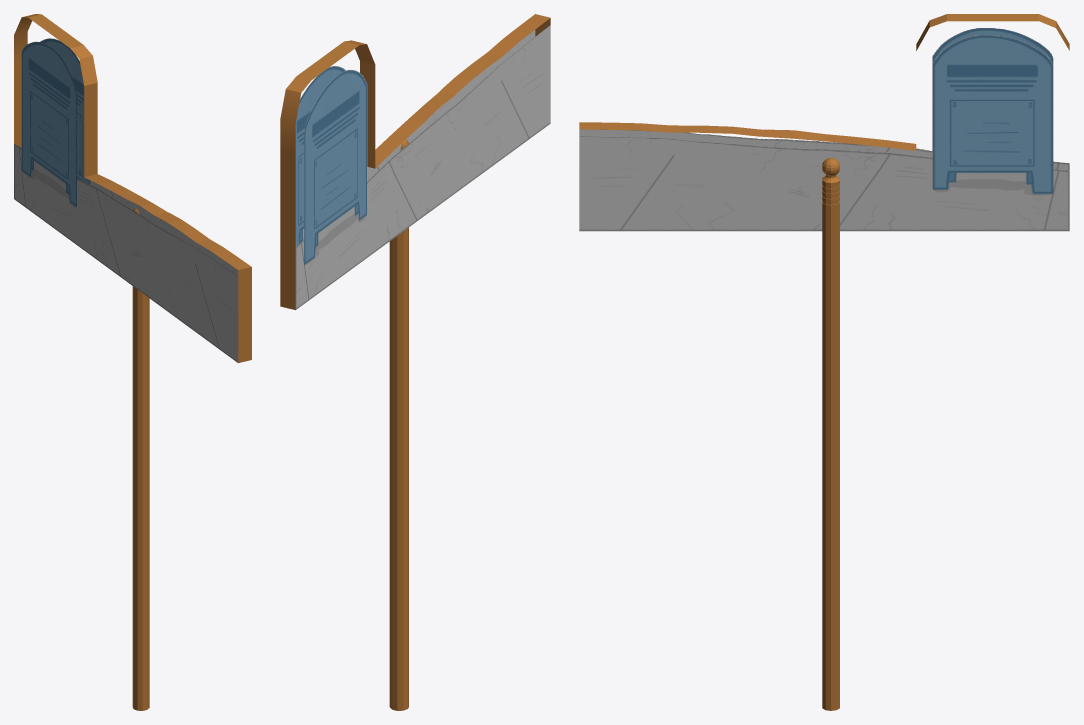
The model's file is Escena7_Buzon.fbx.
3 renders of one model, left to right at view 1: azimuth 30°, elevation 25°; view 2: azimuth 150°, elevation 25°; view 3: azimuth 270°, elevation 25°, orthographic. The views are drawn at different scales.
Visible parts, largest first — view 1: pCylinder3; view 2: pCylinder3; view 3: pCylinder3.
Boxes of the visible parts, <box> form: pCylinder3: <box>14,14,251,710</box>; pCylinder3: <box>280,14,550,710</box>; pCylinder3: <box>579,14,1069,710</box>.
Bounding box in the file's own units: 0.5653 × 13.36 × 8.69.
